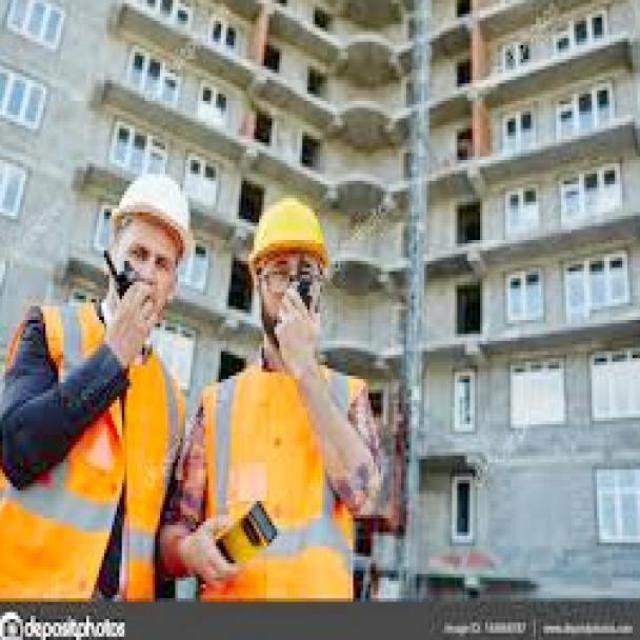helmet: (94, 167, 188, 327), (239, 191, 322, 358)
vest: (5, 286, 160, 588), (183, 362, 373, 598)
